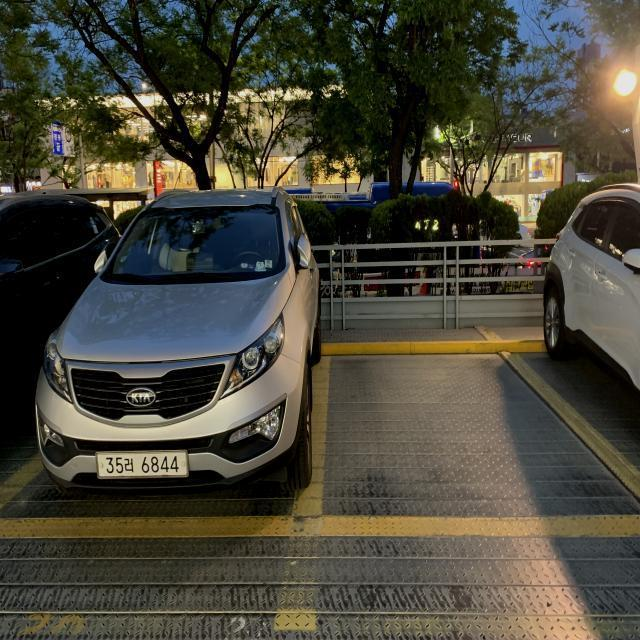Car: (22, 178, 324, 542)
Vacant: (304, 341, 640, 527)
